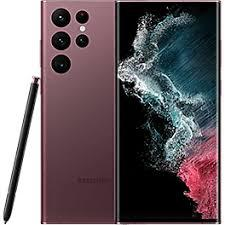Smartphone: (43, 0, 118, 222)
